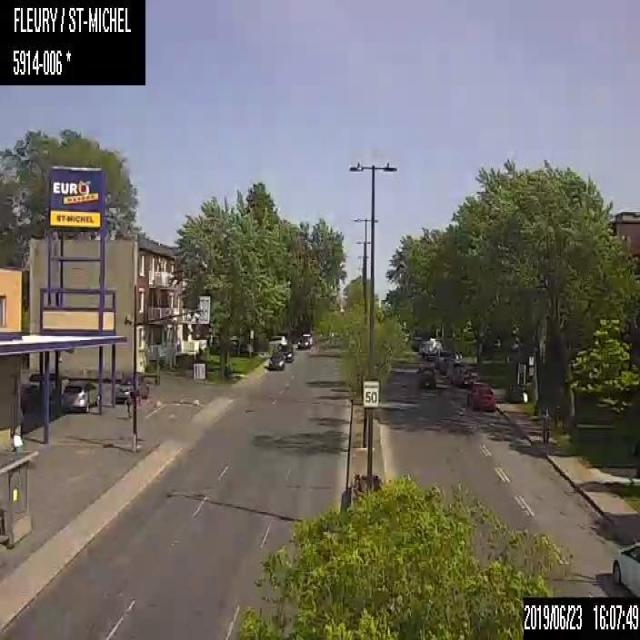pedestrian: (541, 407, 552, 442)
vehicle: (609, 540, 639, 596), (62, 380, 97, 412), (115, 374, 148, 402), (466, 382, 496, 410), (22, 371, 54, 389), (415, 362, 436, 388), (449, 361, 465, 384), (267, 351, 285, 369), (435, 349, 451, 364), (281, 344, 294, 362), (268, 334, 287, 344), (297, 335, 308, 348), (302, 333, 312, 345)
